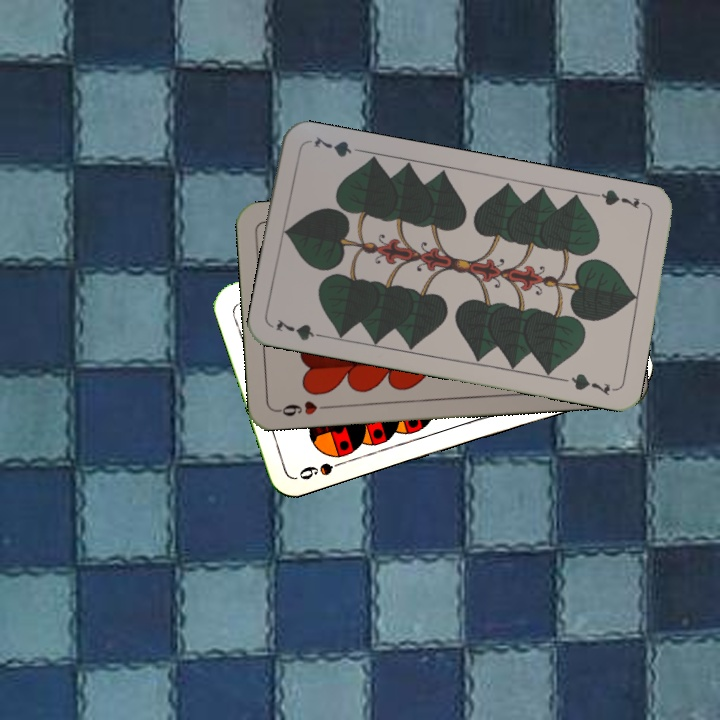G7: (272, 315, 330, 343), (591, 185, 650, 212)
H9: (273, 397, 332, 419)
S9: (294, 455, 352, 483)
